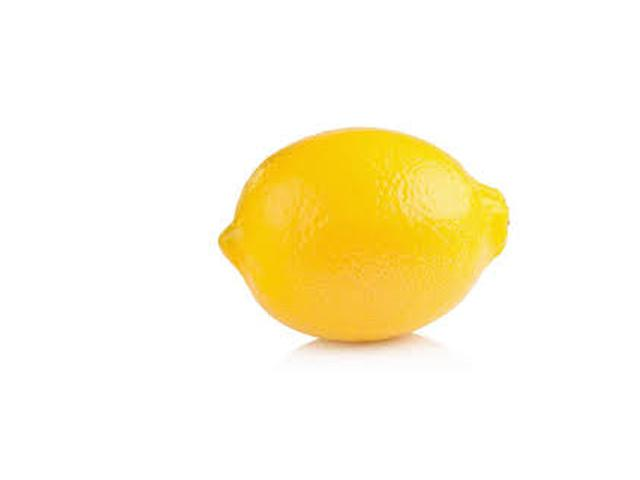lemon: (212, 121, 523, 357)
